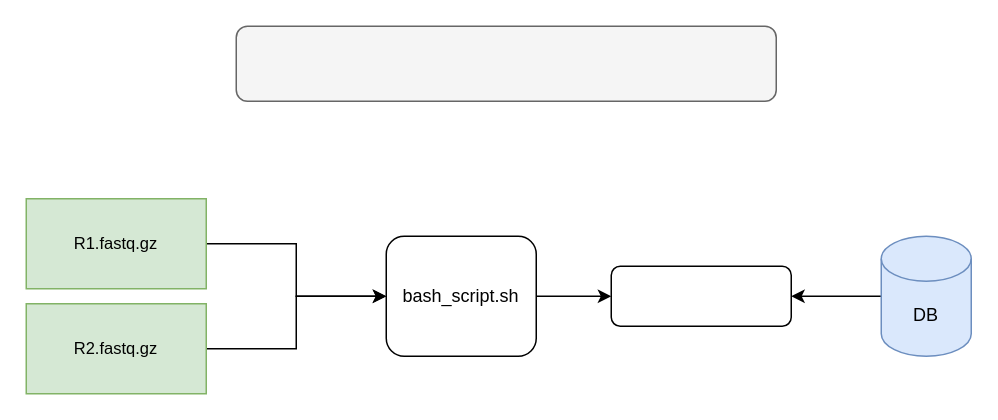
Image size: 998x420. Some labels were removed from this diagram. The centre of each missing label's shape, as x and y in pixels:
"component_name" goes at (505,63).
"python_script.py" goes at (700,295).
